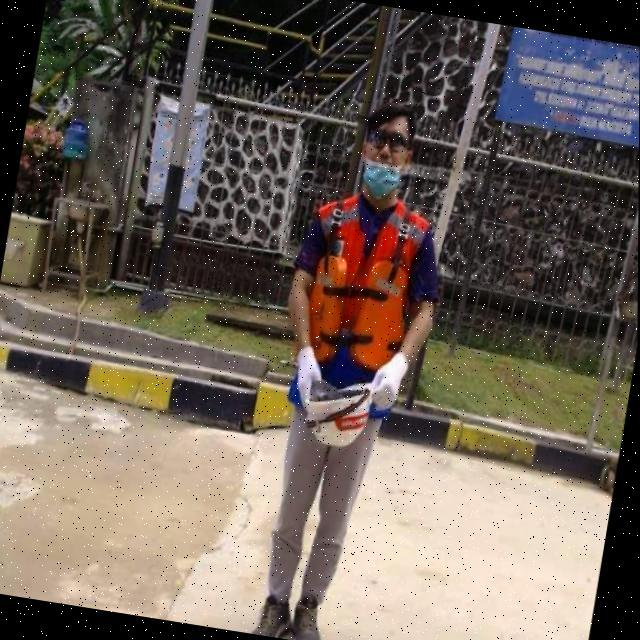goggles_on: (357, 126, 421, 153)
